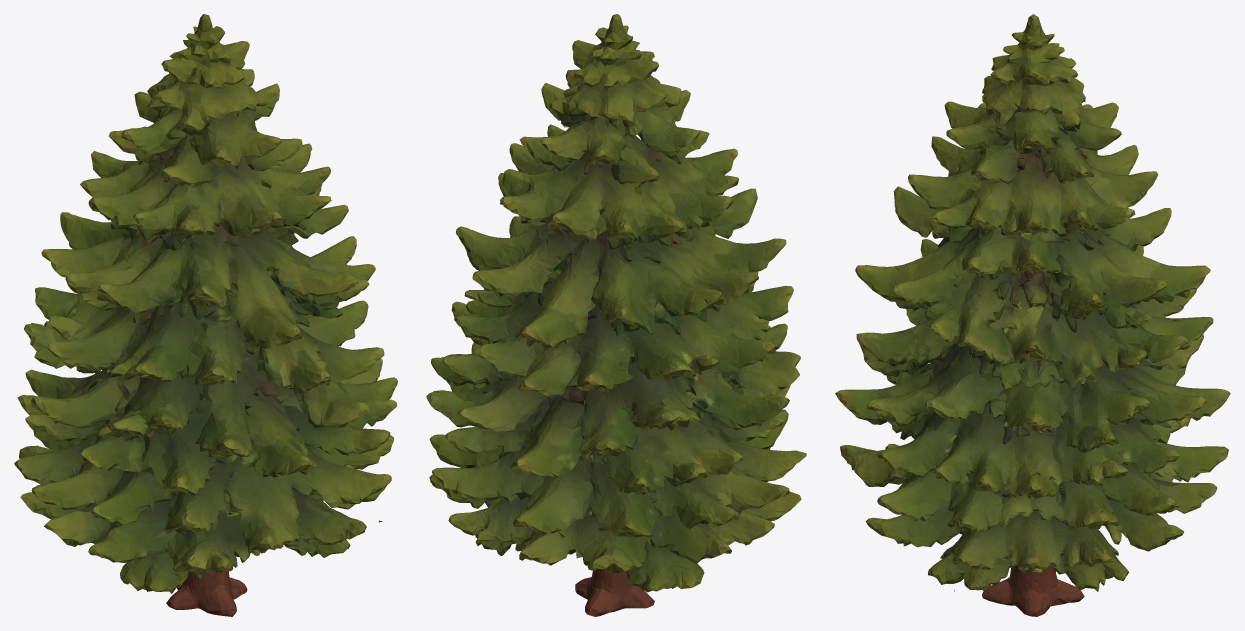
Rendered from prop-tree_pine.glb.
The picture shows the model from 3 angles, left to right: view 1: azimuth 30°, elevation 25°; view 2: azimuth 150°, elevation 25°; view 3: azimuth 270°, elevation 25°; orthographic projection.
Visible parts, largest first — view 1: geometry_0; view 2: geometry_0; view 3: geometry_0.
Boxes of the visible parts, <box> form: geometry_0: <box>14,14,397,616</box>; geometry_0: <box>426,14,806,616</box>; geometry_0: <box>835,14,1230,616</box>.
Bounding box in the file's own units: 1.25 × 2 × 1.23.
Materials: 1 (1 with a texture image).
